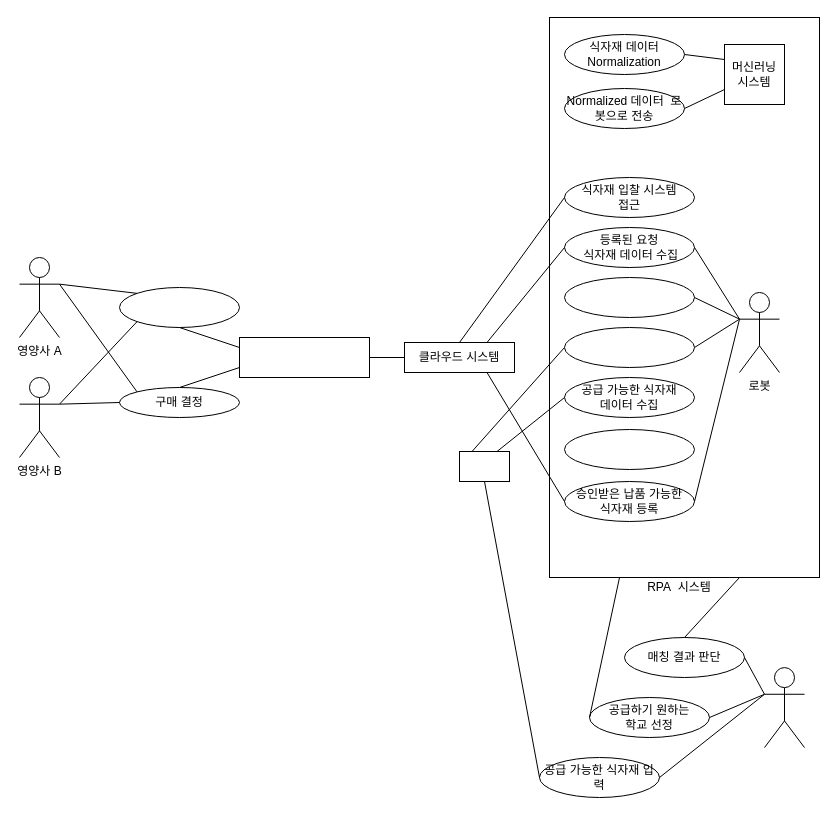
Image size: 837x815. Some labels were removed from this diagram. The shapes that lost their labels are listed below. From the top down, each one's box as (x1, y1, x2, y2) in pixels, then its label:
(118, 286, 240, 328): 다음달 필요 식자재 등록
(564, 276, 694, 318): 신청서 데이터 머신으로 전송
(238, 336, 370, 378): 식자재 입찰 시스템
(564, 326, 694, 368): 공급자 DB 접근
(458, 450, 510, 482): DB
(564, 428, 694, 470): 필요 식자재와 공급 가능한 식자재 매칭
(764, 667, 804, 748): 공급자
